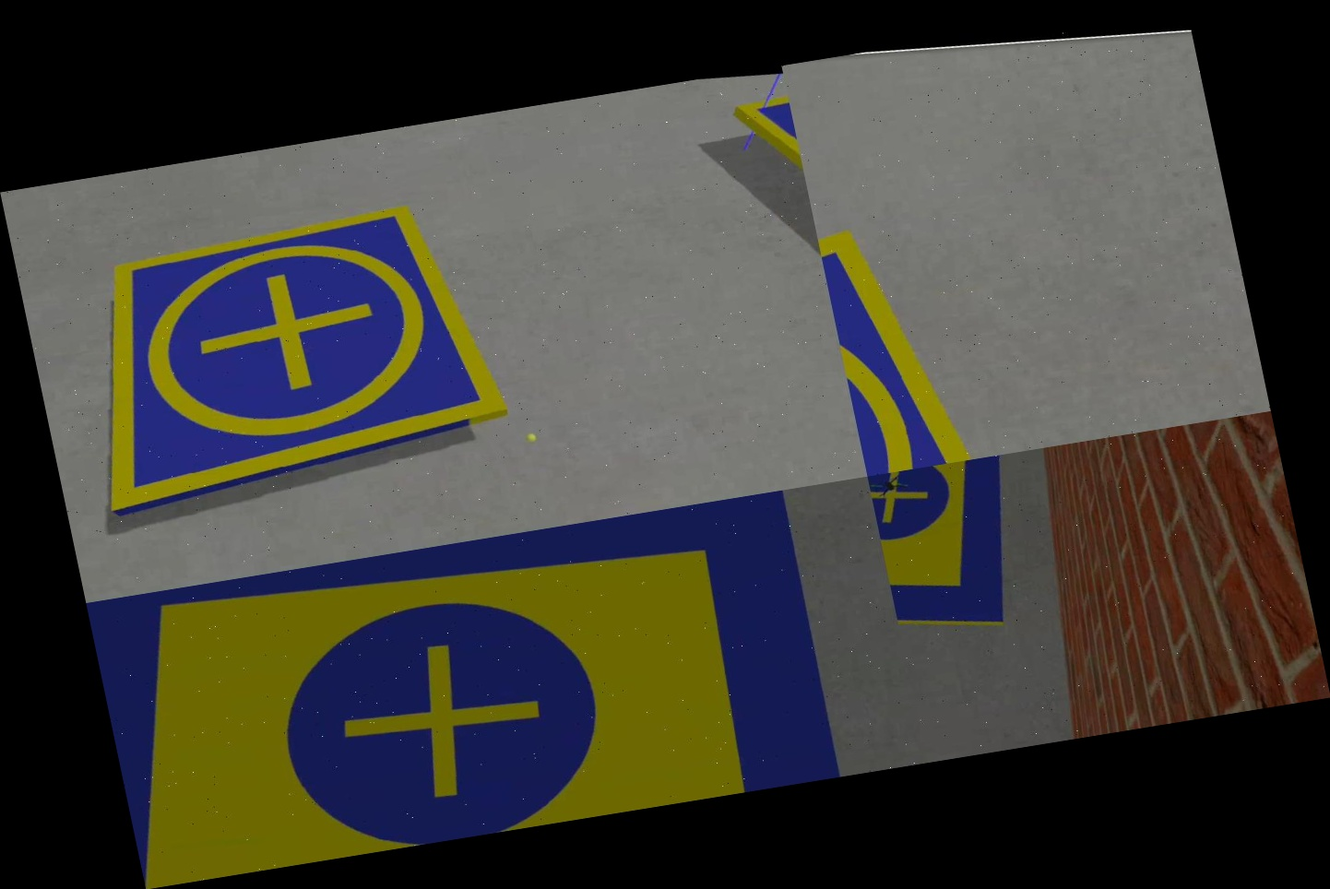large_base: (86, 481, 895, 888), (868, 454, 1043, 646)
small_base: (50, 161, 551, 554), (809, 167, 1051, 476), (706, 69, 825, 288)
